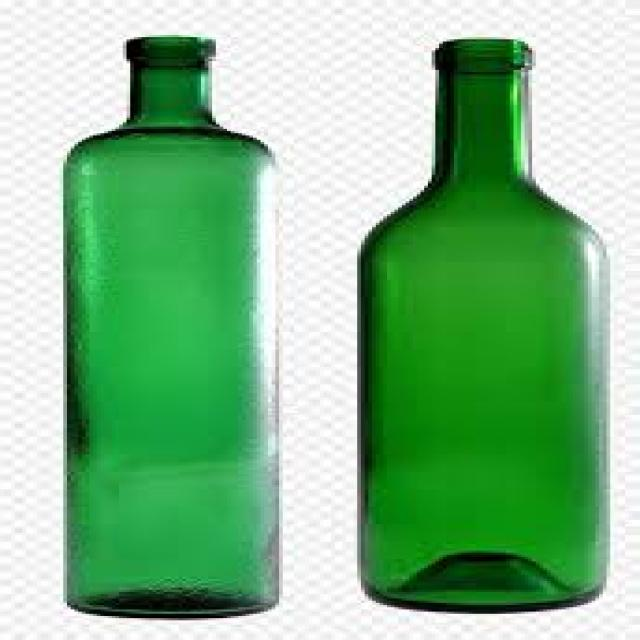glass: (354, 37, 607, 612), (67, 33, 279, 616)
